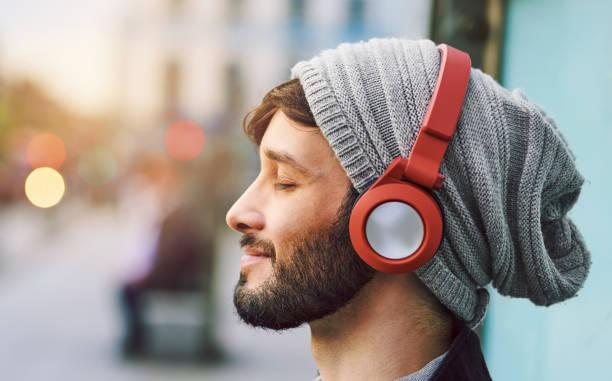headphone: (357, 34, 477, 295)
